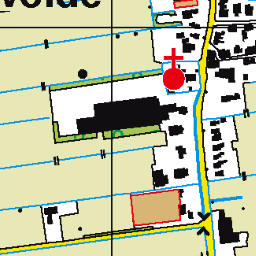church: (159, 44, 188, 92)
